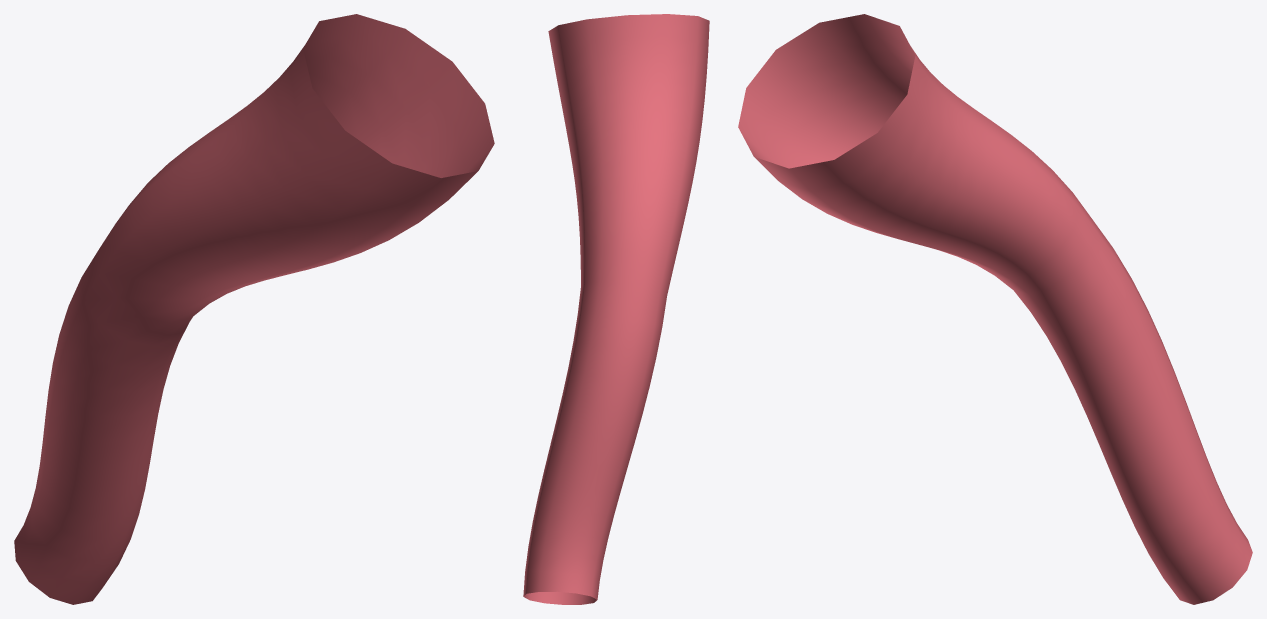
3 views of the same model, side by side, from view 1: azimuth 30°, elevation 25°; view 2: azimuth 150°, elevation 25°; view 3: azimuth 270°, elevation 25° (orthographic). The views are drawn at different scales.
Parts seen in each view (by area): view 1: ZA_f99b5257273a123a; view 2: ZA_f99b5257273a123a; view 3: ZA_f99b5257273a123a.
Part boxes in pixels (left/top/right/bottom): ZA_f99b5257273a123a: left=14, top=14, right=494, bottom=604; ZA_f99b5257273a123a: left=523, top=14, right=709, bottom=604; ZA_f99b5257273a123a: left=738, top=14, right=1252, bottom=604.
Size of the model in its own units: 0.0182 by 0.0438 by 0.0338.
